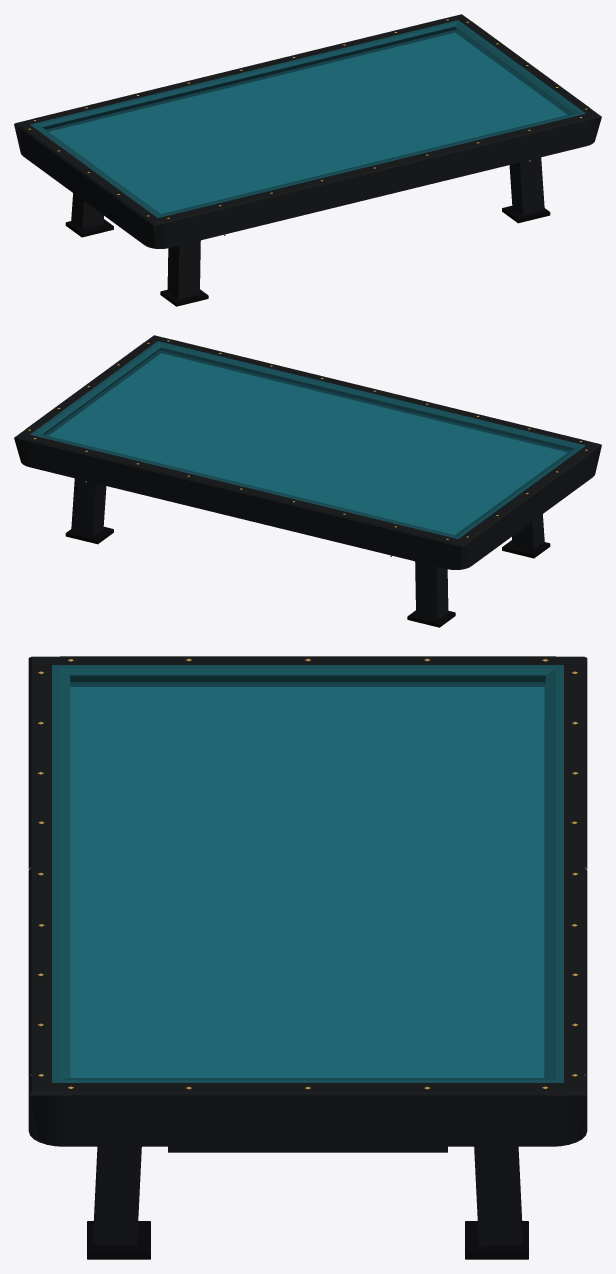
The model's file is table-threecushion-10-chinese-ebony.glb.
3 views of the same model, one above another, from view 1: azimuth 30°, elevation 25°; view 2: azimuth 150°, elevation 25°; view 3: azimuth 270°, elevation 25° (orthographic). The views are drawn at different scales.
Parts seen in each view (by area): view 1: table-threecushion-10-chinese-ebony, break-builder-table-support; view 2: table-threecushion-10-chinese-ebony, break-builder-table-support; view 3: table-threecushion-10-chinese-ebony, break-builder-table-support.
Part boxes in pixels (x1,y1,x2,y2): table-threecushion-10-chinese-ebony: [14, 14, 601, 248]; break-builder-table-support: [65, 157, 550, 306]; table-threecushion-10-chinese-ebony: [14, 335, 601, 569]; break-builder-table-support: [65, 478, 550, 627]; table-threecushion-10-chinese-ebony: [28, 656, 587, 1146]; break-builder-table-support: [87, 1146, 528, 1259].
Bounding box in the file's own units: 3.28 × 0.7156 × 1.77.
